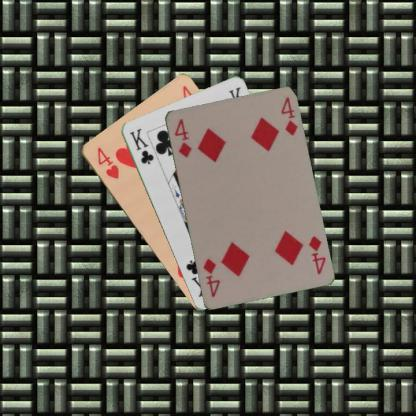4d: (172, 115, 193, 159), (306, 232, 326, 276)
4h: (94, 144, 120, 180)
Kc: (126, 125, 155, 166)
